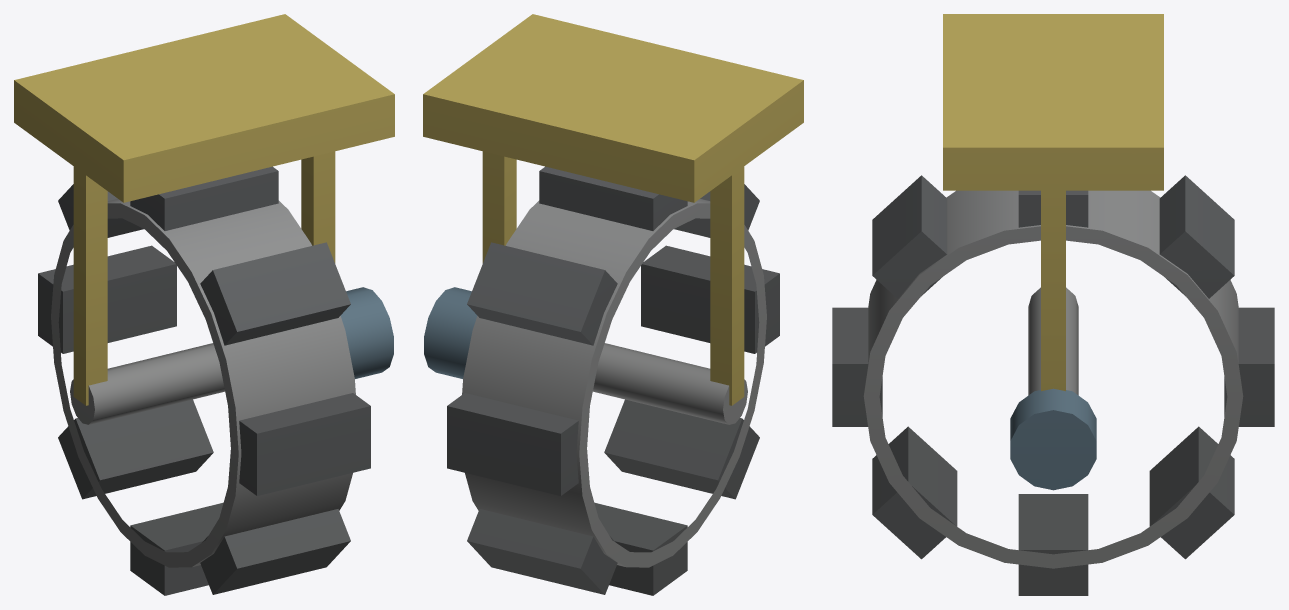
Rendered from qHead_steel.glb.
3 renders of one model, left to right at view 1: azimuth 30°, elevation 25°; view 2: azimuth 150°, elevation 25°; view 3: azimuth 270°, elevation 25°, orthographic.
Visible parts, largest first — view 1: qHead_steel; view 2: qHead_steel; view 3: qHead_steel.
Part boxes in pixels (box(x1,y1,x2,y2)): qHead_steel: box(14, 14, 394, 595); qHead_steel: box(423, 14, 803, 595); qHead_steel: box(832, 14, 1274, 595).
Bounding box in the file's own units: 1.12 × 1.7 × 1.4.
